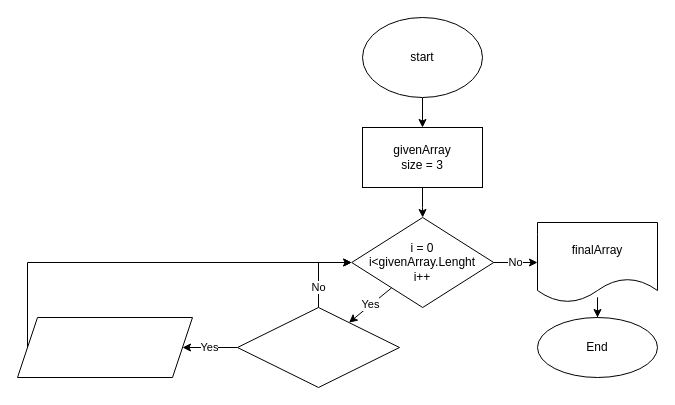
The diagram is 675 pixels wide and 405 high, and some of its shapes have lost their labels. Here are the shapes that lost their labels. From the top down, the centre of each, then its label:
the point at 104,347: finalArray[i] = givenArray[i]
the point at 318,347: givenArray[i].Lenght <= size
